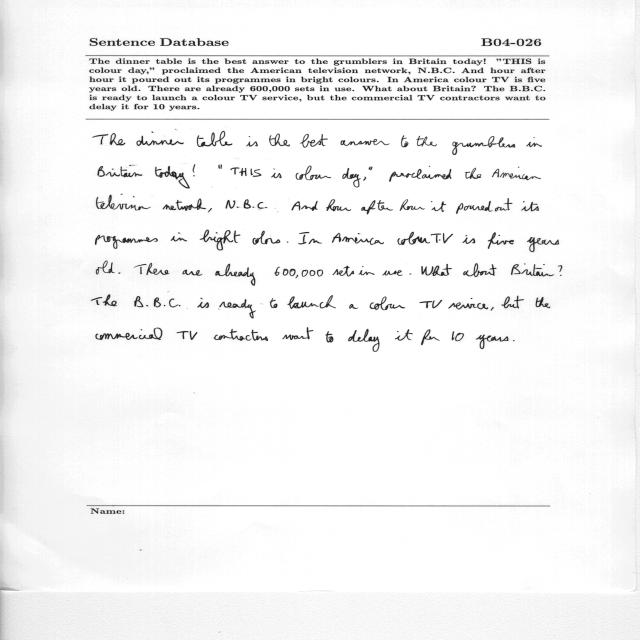word: (453, 136, 516, 155), (389, 166, 451, 182), (134, 296, 209, 308), (95, 235, 158, 249), (216, 264, 256, 286), (97, 194, 151, 210), (226, 200, 300, 211), (200, 230, 240, 250), (96, 328, 162, 340), (155, 166, 190, 188), (219, 299, 256, 319), (349, 329, 380, 352), (137, 131, 184, 146), (287, 295, 336, 309), (214, 329, 268, 341), (492, 167, 541, 180), (332, 233, 384, 245), (197, 131, 232, 147), (163, 198, 206, 211), (511, 264, 554, 277), (274, 267, 323, 278), (98, 165, 142, 177), (296, 166, 331, 180), (456, 201, 493, 214), (361, 200, 393, 215), (527, 237, 559, 252), (463, 263, 497, 277), (476, 335, 509, 349), (370, 297, 405, 310), (488, 232, 514, 249), (448, 298, 488, 309), (93, 133, 126, 146), (397, 232, 430, 245), (134, 263, 169, 275), (283, 327, 314, 340), (300, 134, 328, 148), (253, 231, 281, 245), (421, 264, 452, 276), (342, 168, 361, 187), (341, 139, 390, 146), (231, 167, 262, 177), (421, 330, 440, 346), (326, 200, 351, 212), (400, 199, 425, 211), (501, 296, 524, 309), (298, 232, 322, 244), (92, 295, 118, 306), (269, 134, 290, 147), (96, 261, 115, 275), (332, 266, 354, 277), (416, 136, 437, 147), (495, 199, 512, 212), (431, 233, 453, 243), (395, 329, 413, 341), (177, 331, 198, 340), (420, 300, 443, 308), (521, 202, 539, 212), (465, 168, 481, 179), (301, 201, 318, 211), (431, 201, 446, 212), (526, 138, 542, 148), (536, 297, 550, 308), (171, 233, 187, 242), (359, 266, 374, 275), (246, 136, 258, 147), (451, 332, 464, 342), (382, 270, 403, 276), (183, 270, 203, 276), (463, 235, 476, 244), (271, 169, 281, 179), (326, 332, 334, 343), (401, 136, 408, 148), (270, 298, 277, 308), (350, 304, 359, 309), (558, 265, 562, 276), (193, 165, 196, 176), (218, 165, 222, 169), (369, 167, 373, 171), (208, 208, 212, 212), (364, 177, 367, 181), (491, 307, 494, 311), (118, 272, 121, 274), (200, 298, 203, 300), (409, 274, 411, 275), (513, 340, 515, 341), (287, 242, 288, 243)
